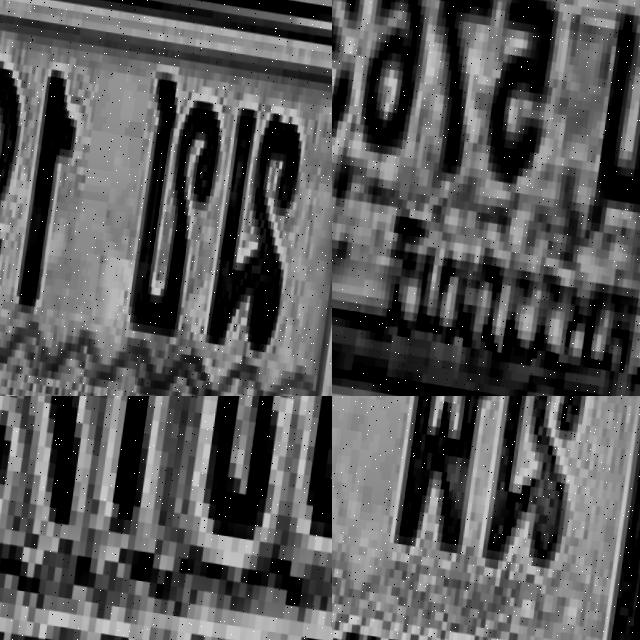license-plate: (0, 0, 332, 396), (332, 0, 640, 396), (0, 396, 332, 640), (332, 396, 640, 640)
